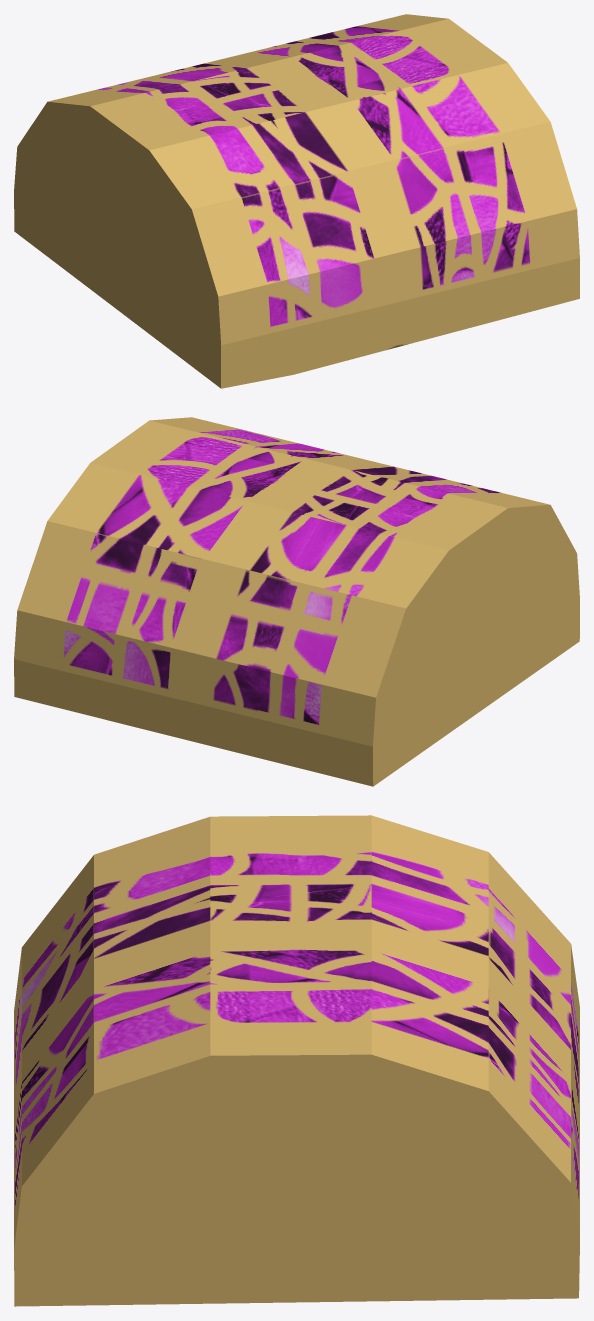
File: chestTop4.glb
The picture shows the model from 3 angles, top to bottom: view 1: azimuth 30°, elevation 25°; view 2: azimuth 150°, elevation 25°; view 3: azimuth 270°, elevation 25°; orthographic projection. The views are drawn at different scales.
Visible parts, largest first — view 1: chest01.001; view 2: chest01.001; view 3: chest01.001.
Boxes of the visible parts, bbox=[...] form: chest01.001: bbox=[14, 14, 579, 388]; chest01.001: bbox=[14, 417, 579, 786]; chest01.001: bbox=[14, 815, 579, 1306].
Size of the model in its own units: 1 by 0.5074 by 1.
1 material, 1 textured.
